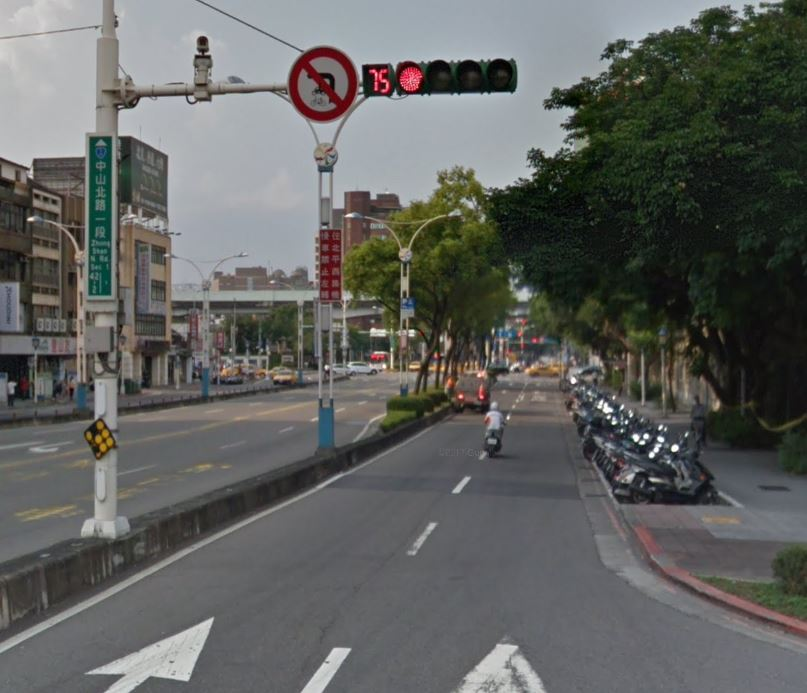Traffic_light_red: (363, 61, 519, 95)
